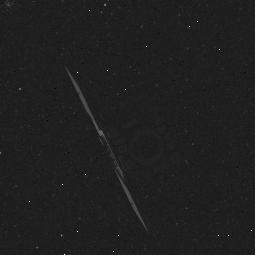proba_2: (64, 50, 194, 234)
